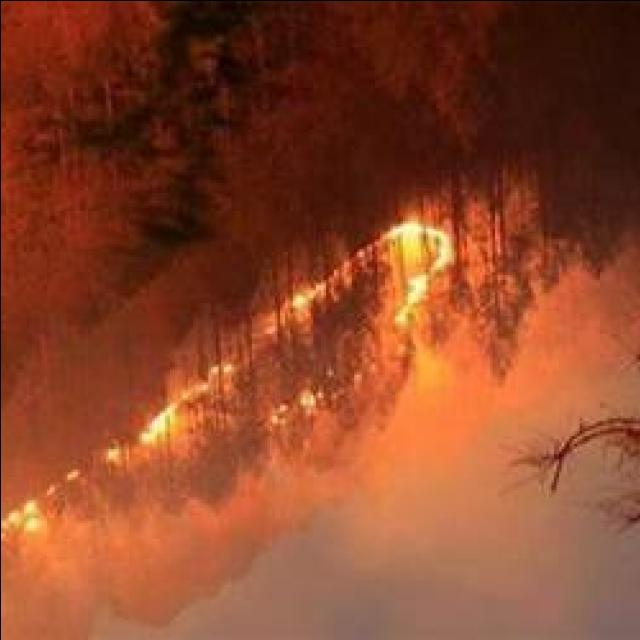fire: (376, 214, 456, 272), (124, 398, 193, 446), (0, 492, 51, 549), (390, 262, 432, 328)
smoke: (353, 363, 503, 544), (0, 531, 252, 638)
